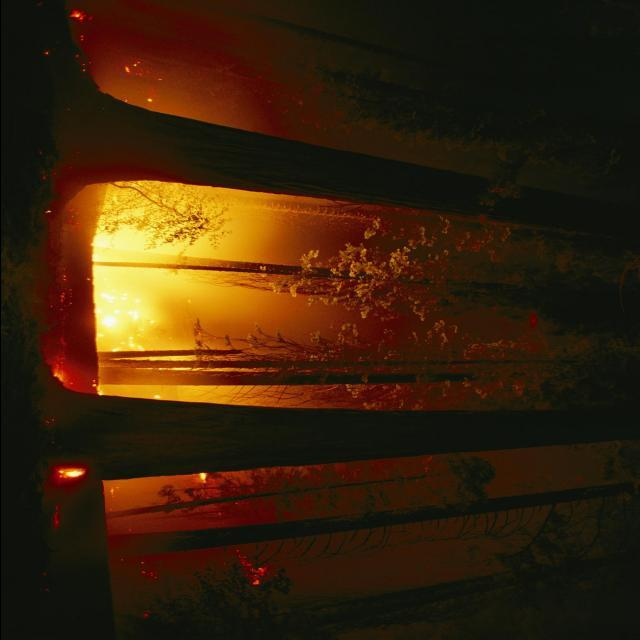Fire: (94, 198, 202, 398)
